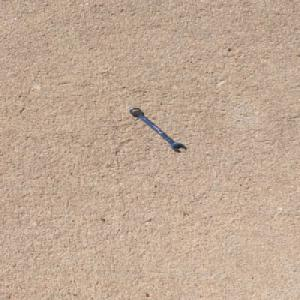Wrench: (128, 106, 188, 151)
